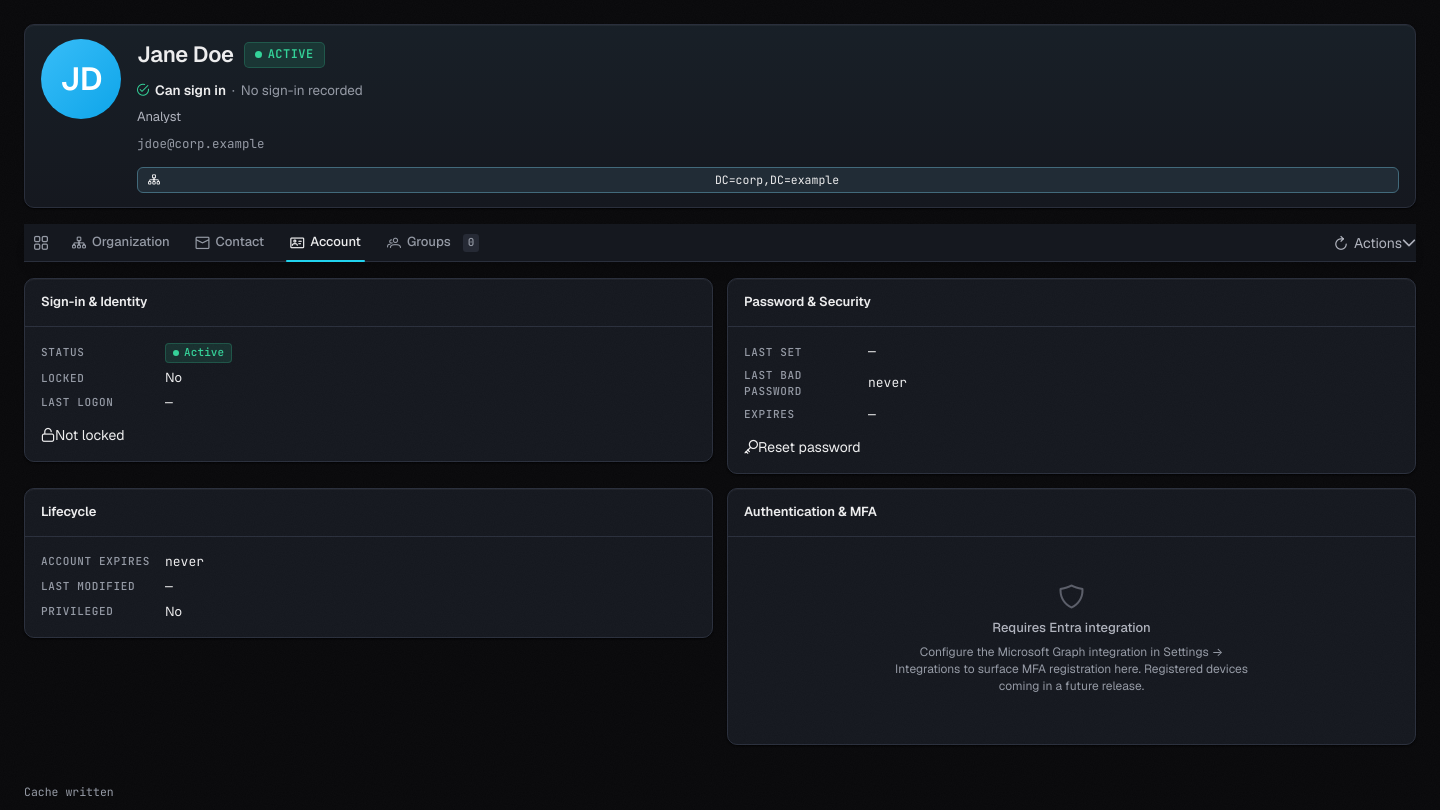
Test: resetting a locked-out user’s password › offers to unlock an account locked since the page loaded
Click the button "Reset password" at (802, 447), box [744,437,861,457]
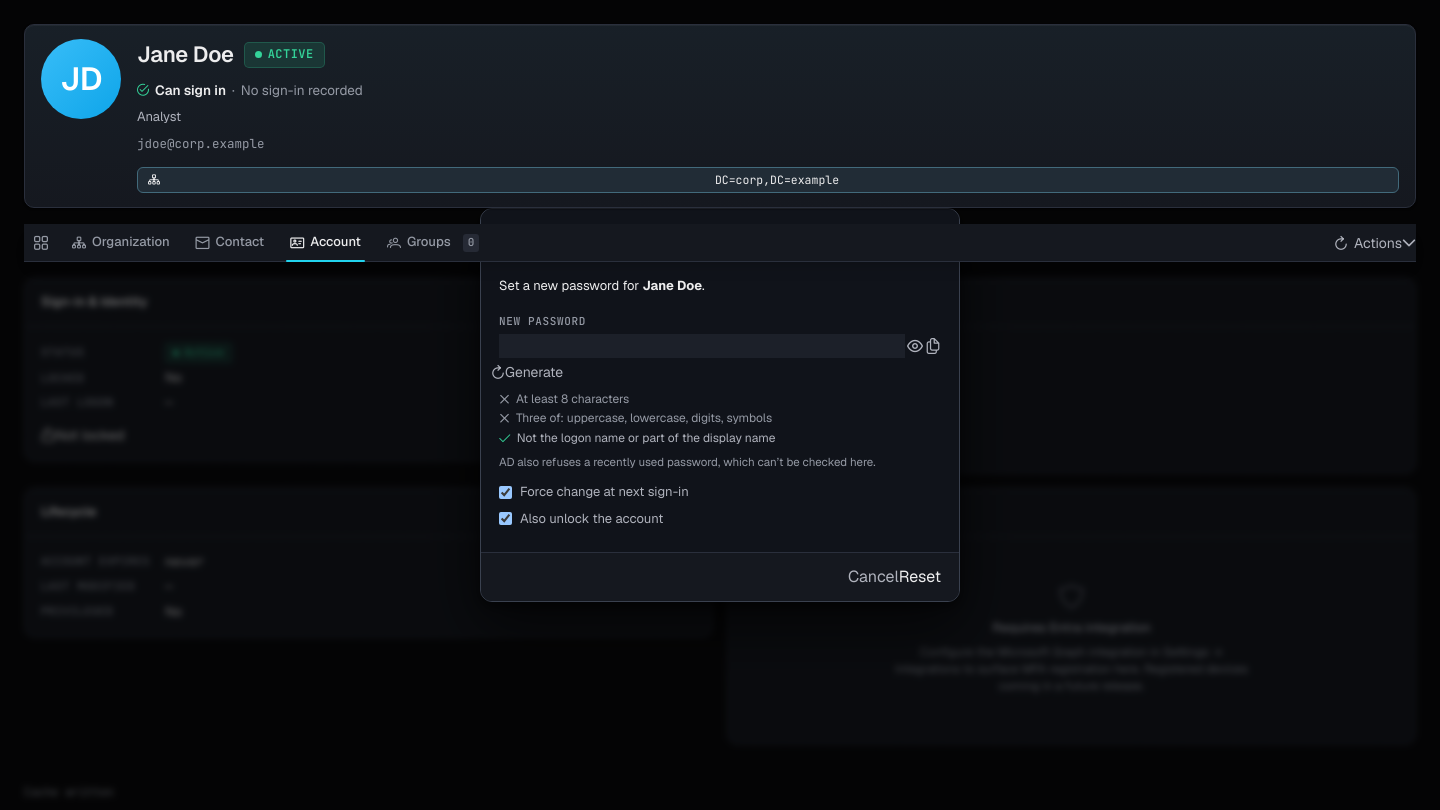
Now the text "Also unlock the account" is shown, box [520,510,663,528]
